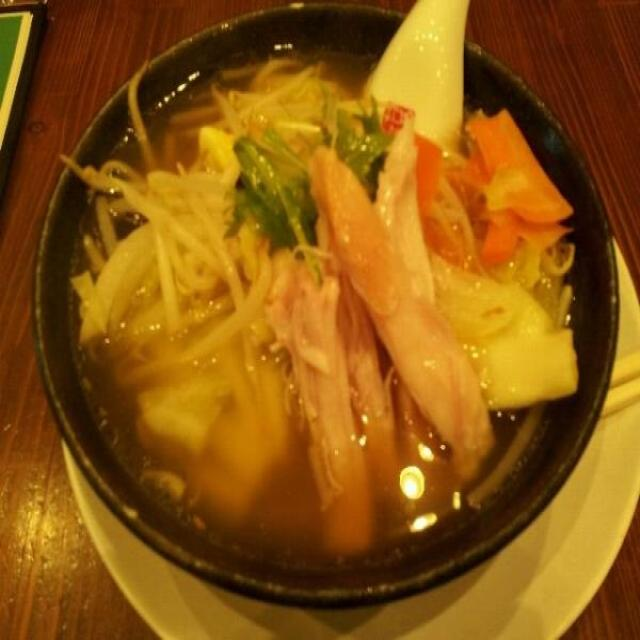面条主食: (26, 7, 616, 606)
